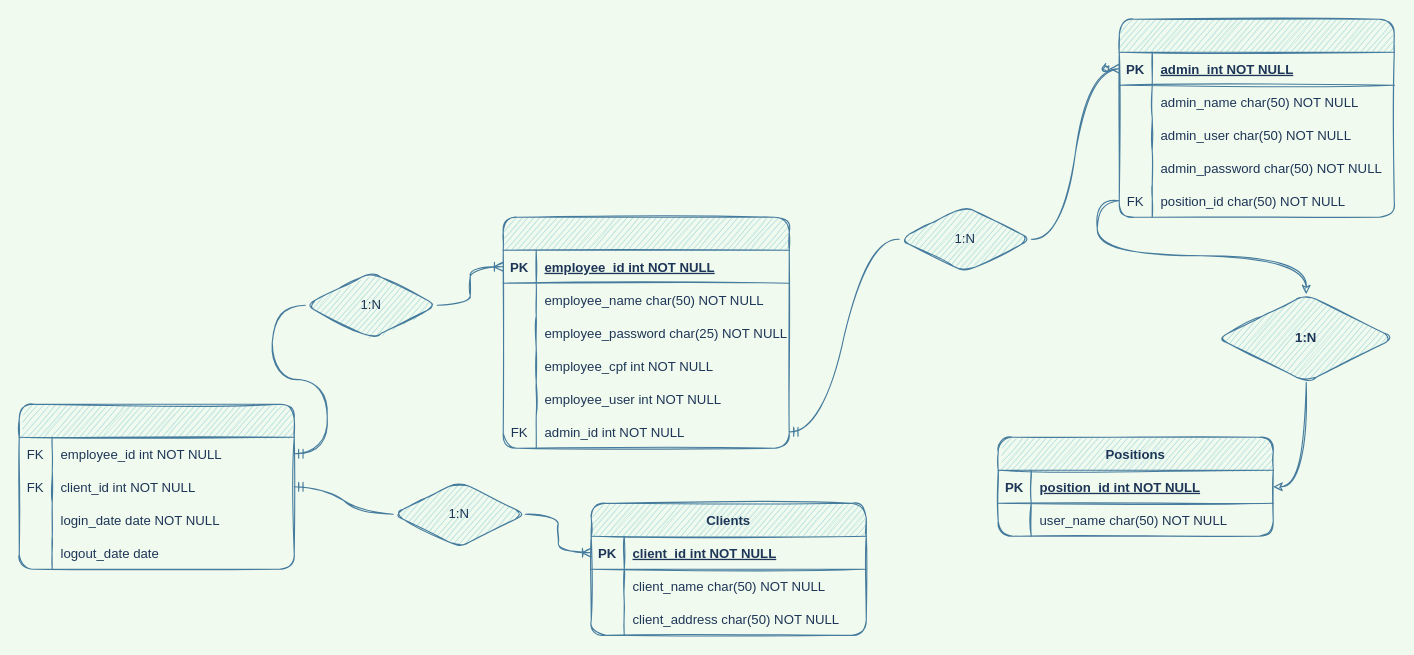
This 1414x655 diagram has some shape labels left out. The shapes that lost their labels are listed below. From the top down, each one's box as (x1, y1, x2, y2) in pixels, then its label:
(1118, 18, 1394, 217): Admins
(502, 216, 789, 448): Employees
(18, 403, 294, 569): Logs
